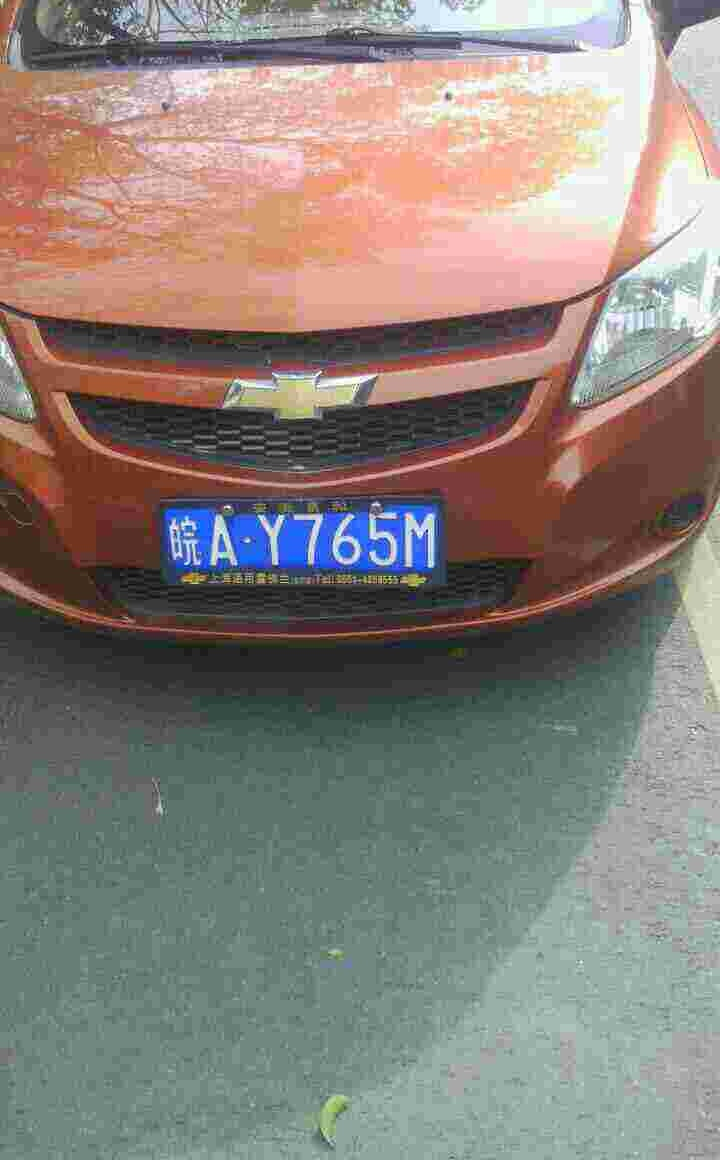plate: (162, 499, 452, 581)
